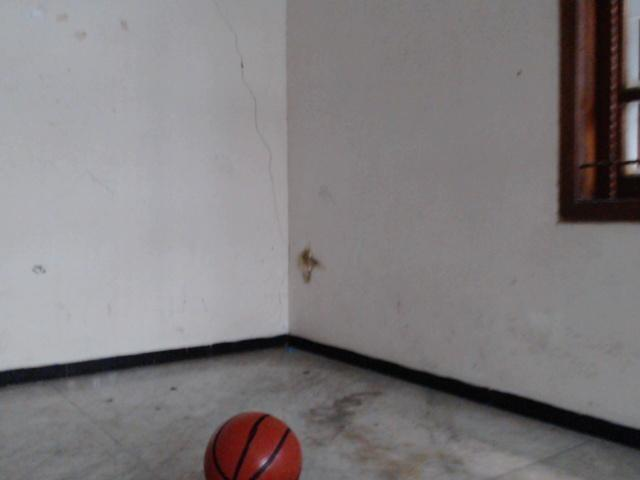Sports-Ball: (203, 416, 303, 480)
